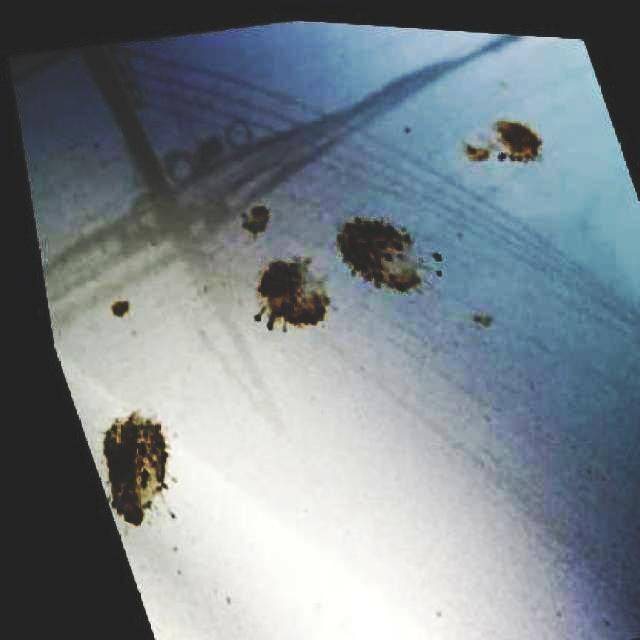Bird Poop: (104, 412, 167, 524), (339, 219, 419, 290), (256, 262, 327, 328), (467, 122, 540, 160), (243, 205, 269, 233), (112, 300, 128, 316), (474, 315, 491, 326)
